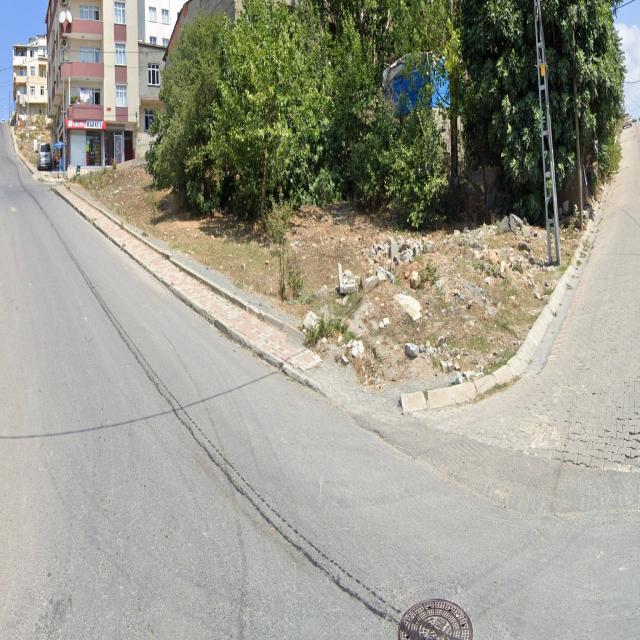Utility Pole Information Plate: (541, 63, 545, 77)
